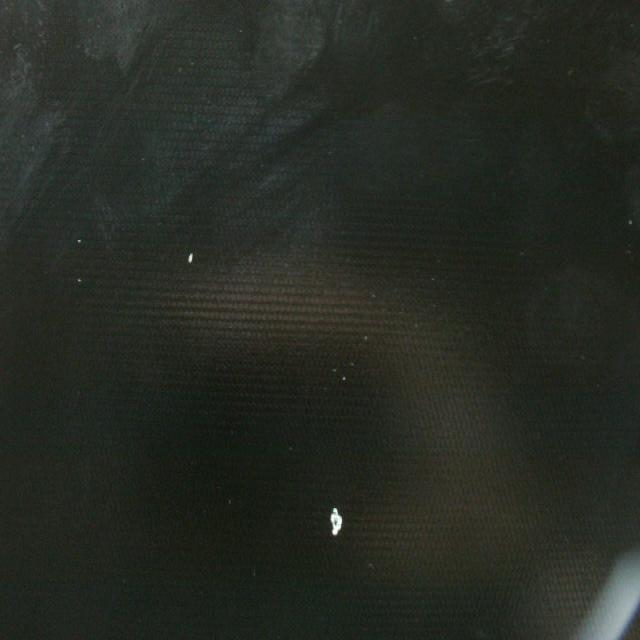very small scratch: (327, 500, 345, 548), (181, 245, 200, 268)
